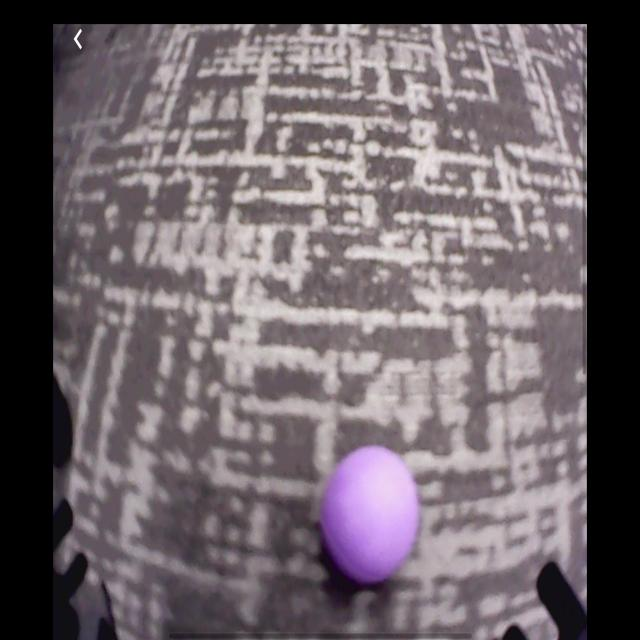ball: (320, 445, 423, 590)
